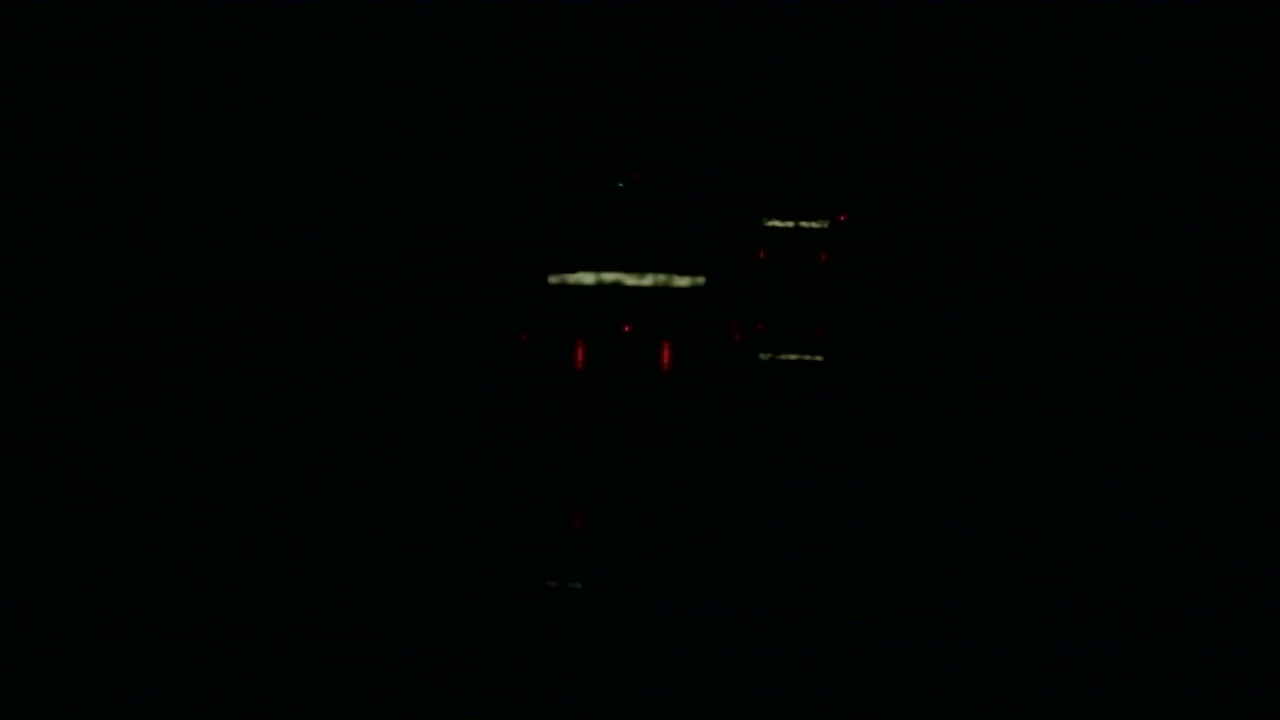lamp: (660, 337, 669, 364), (573, 338, 578, 369)
pair1: (575, 341, 669, 367)
